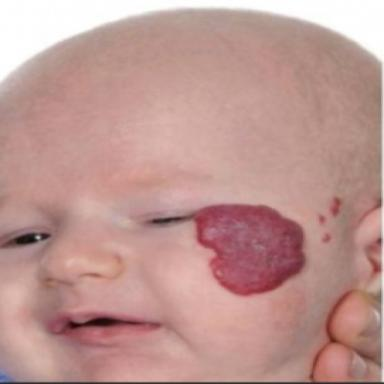Hemangiome: (195, 205, 304, 295)
